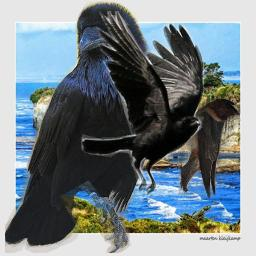Crow: (5, 1, 170, 253), (81, 11, 206, 199)
Swallow: (178, 98, 240, 199)
